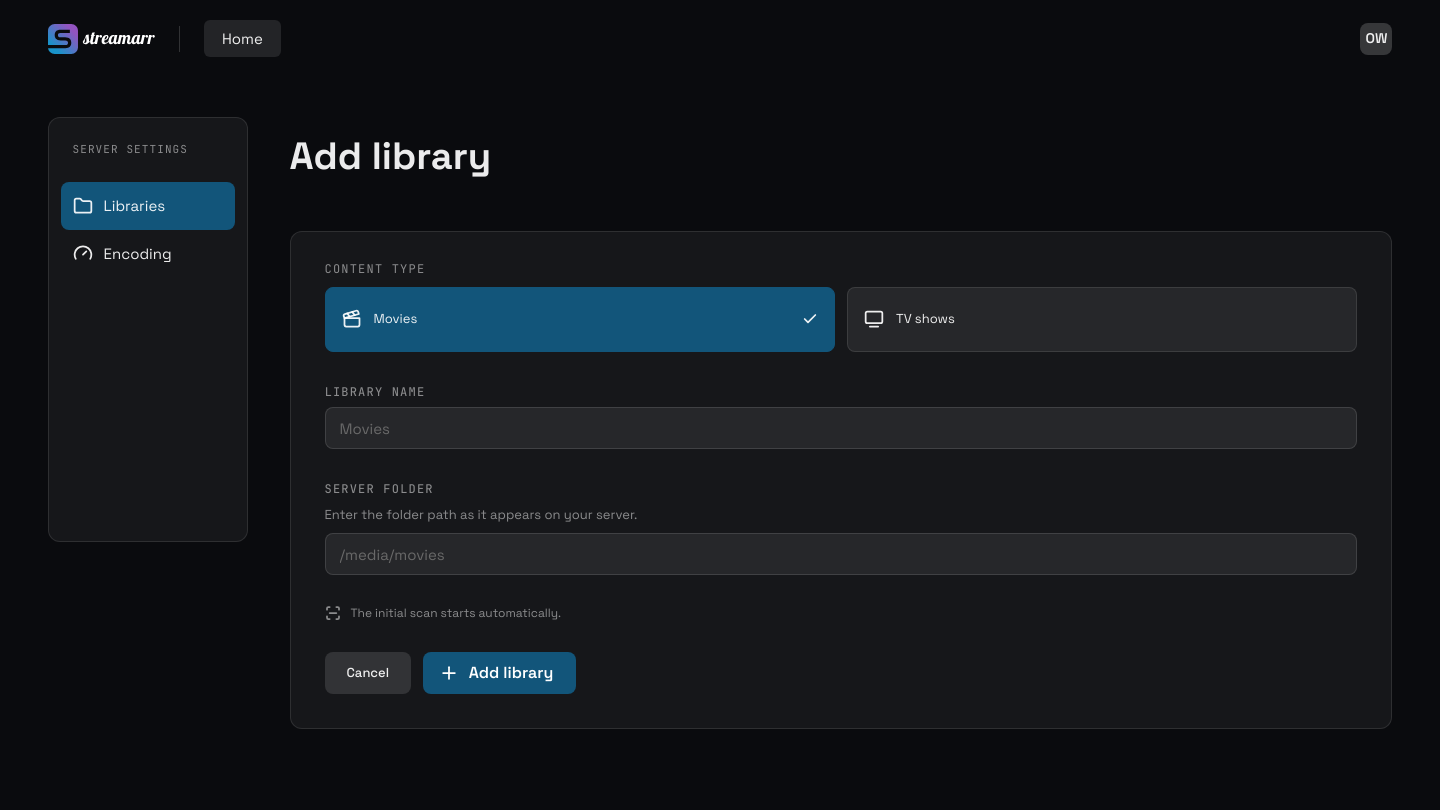
Test: library administration › shouldPreserveRejectedDraftAndSelectCreatedLibraryInsideSettings
Type "Family" into the field labelled "Library name" at (841, 428), box [324,407,1358,449]
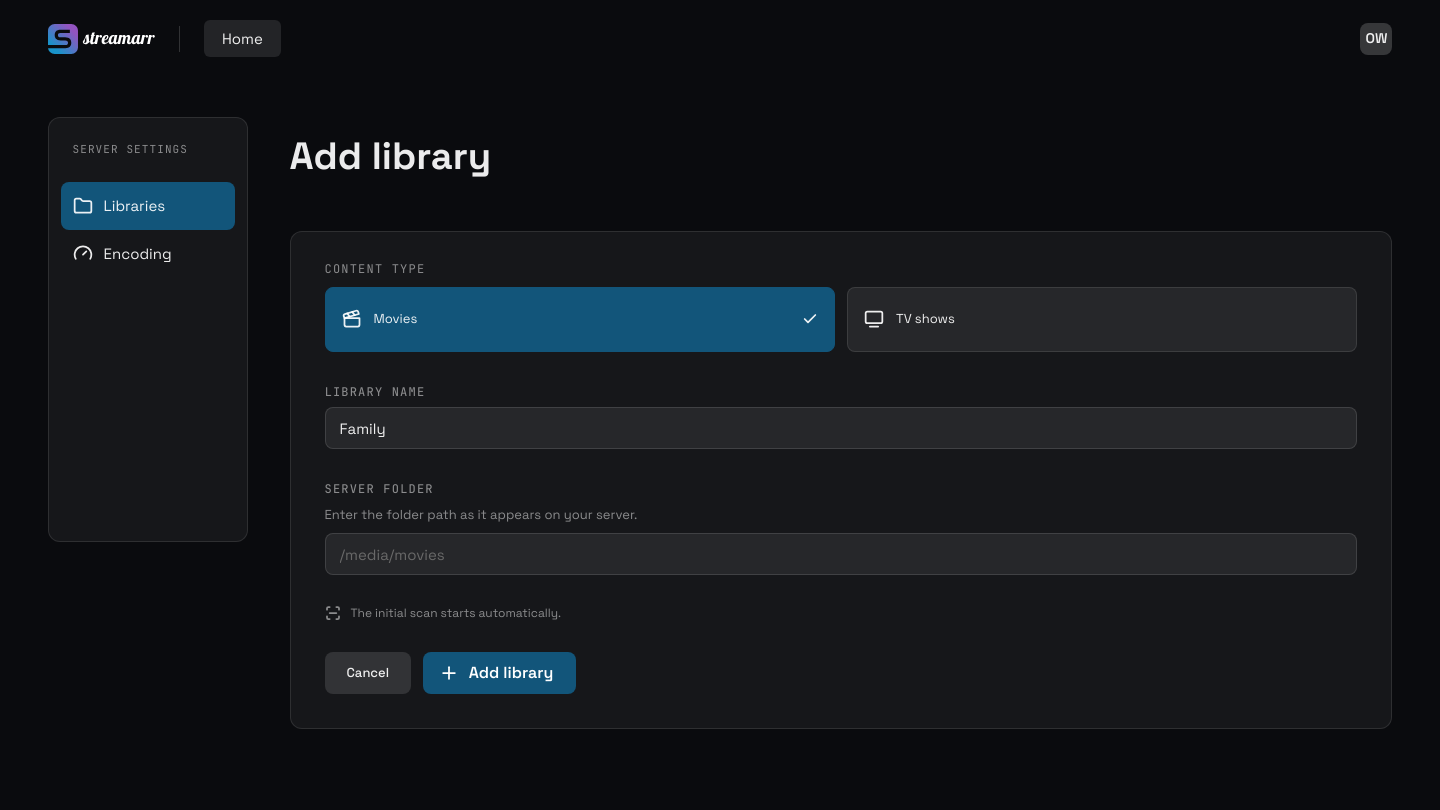
Type "/missing" into the field labelled "Server folder" at (841, 554), box [324,533,1358,575]
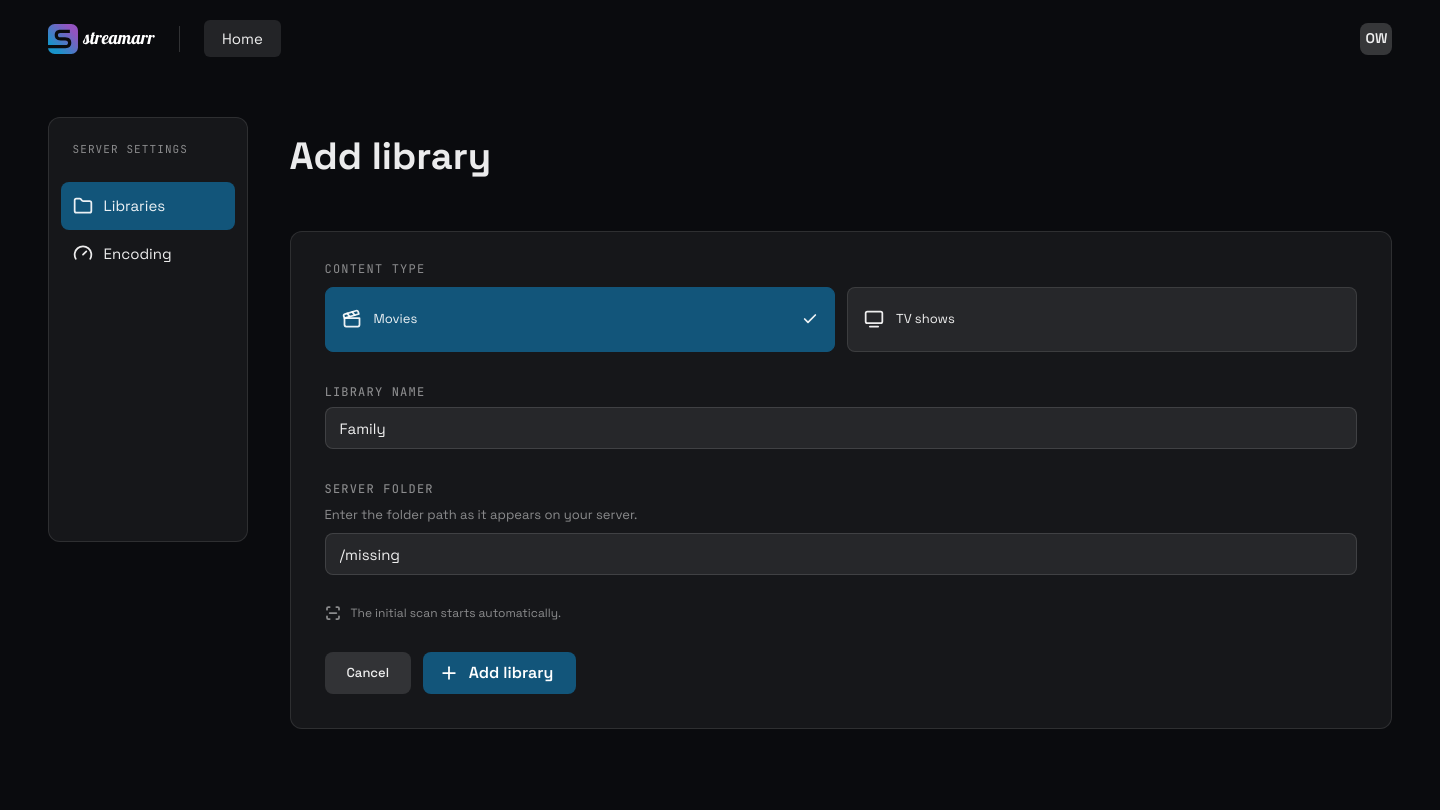
Click the button "Add library" at (500, 673), box [423,652,576,694]
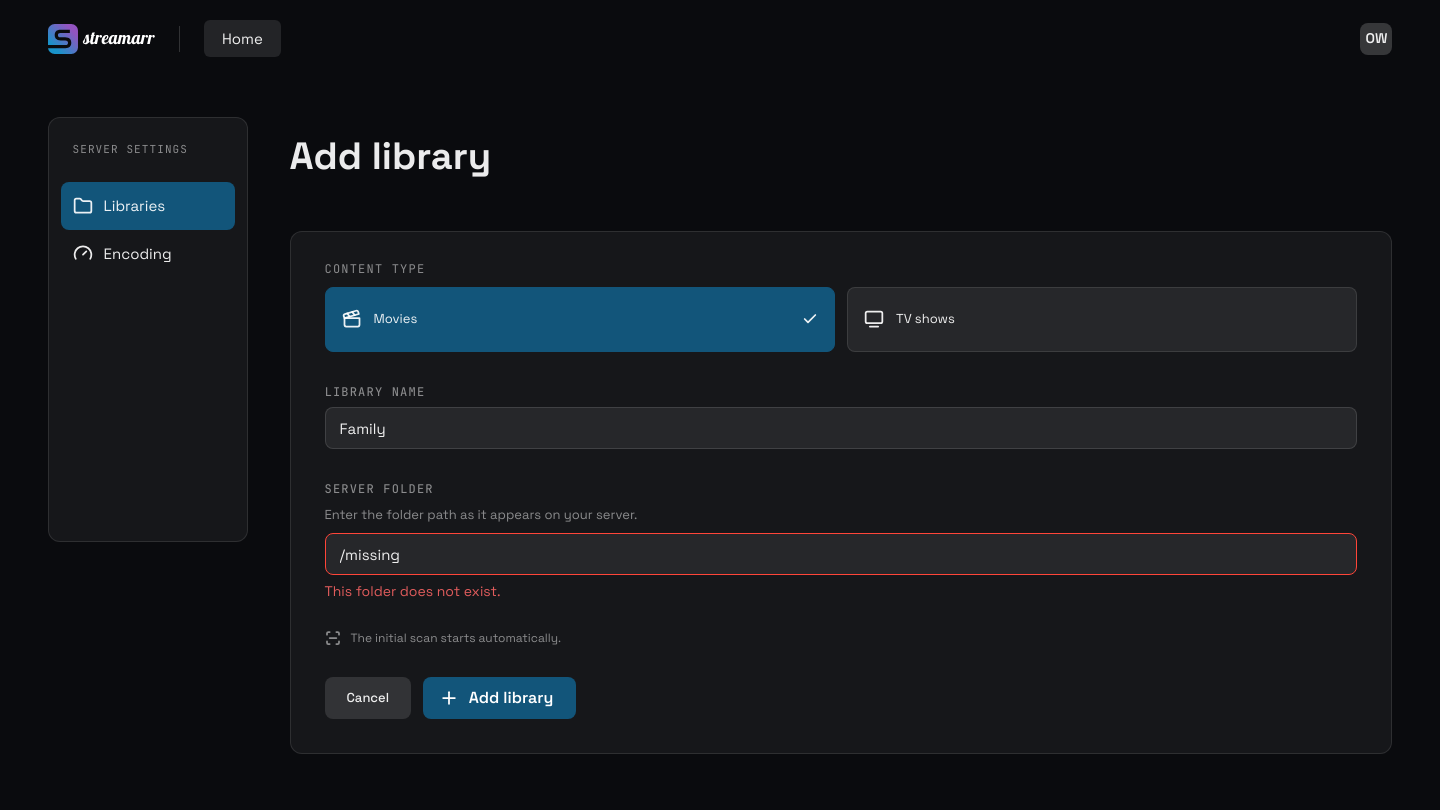
Check: the text "This folder does not exist." is shown, box [324,582,500,600]
Replace the text in the field labelled "Server folder" with "/media/family" at (841, 554), box [324,533,1358,575]
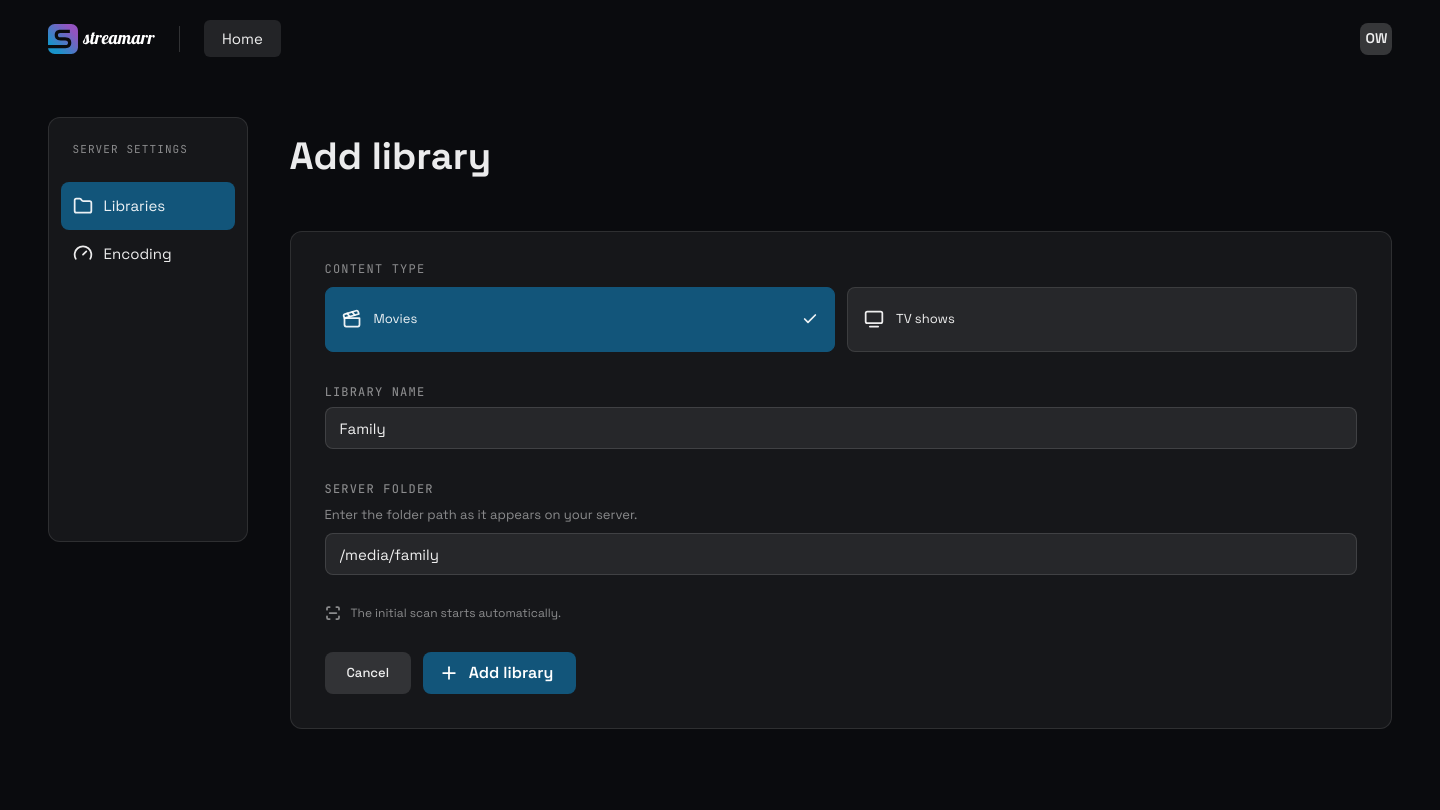
Check: the text "This folder does not exist." is not shown
Click the button "Add library" at (500, 673), box [423,652,576,694]
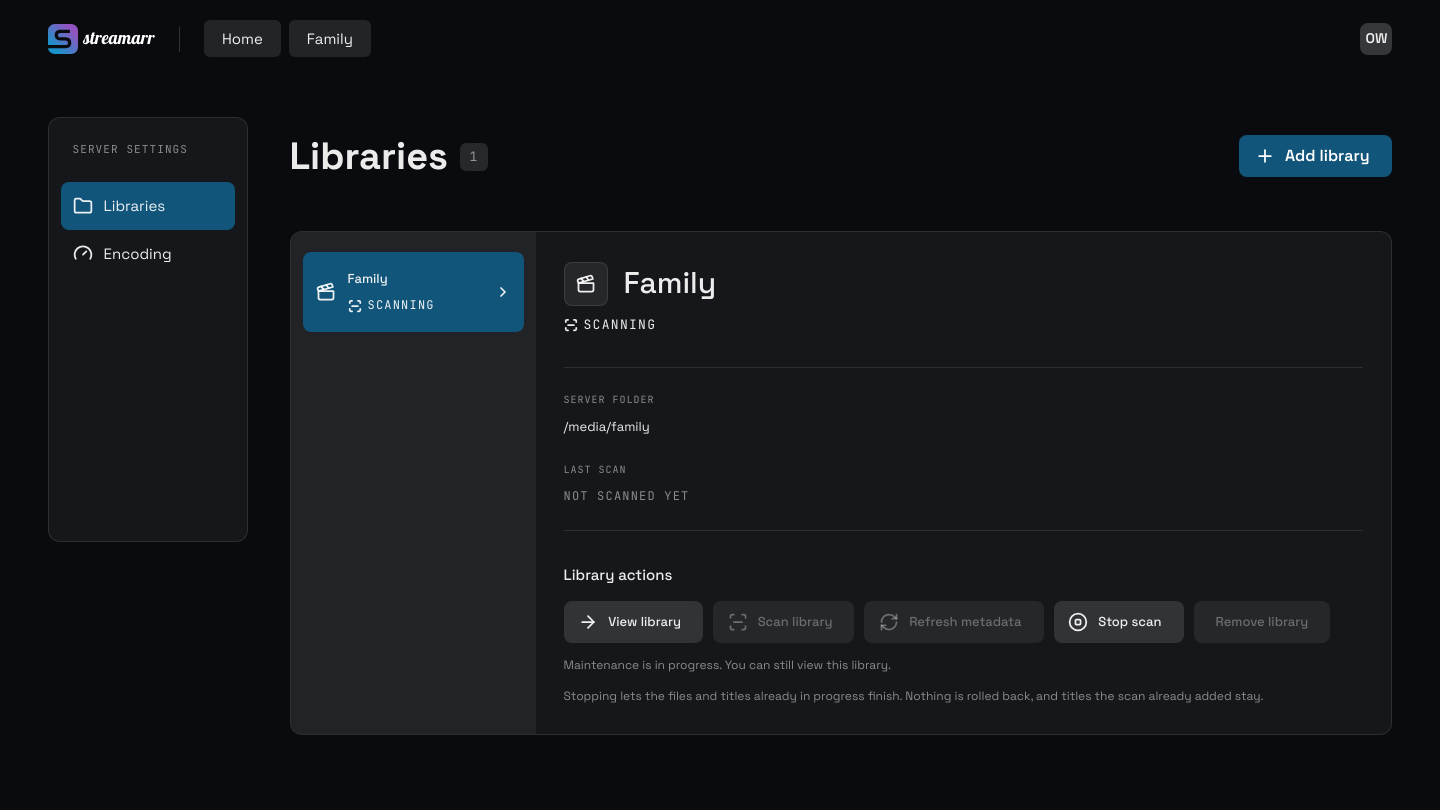
Check: the element named "Family settings" shows "SCANNING", box [584,316,656,333]
Check: the link "Family" is shown, box [289,20,371,57]
